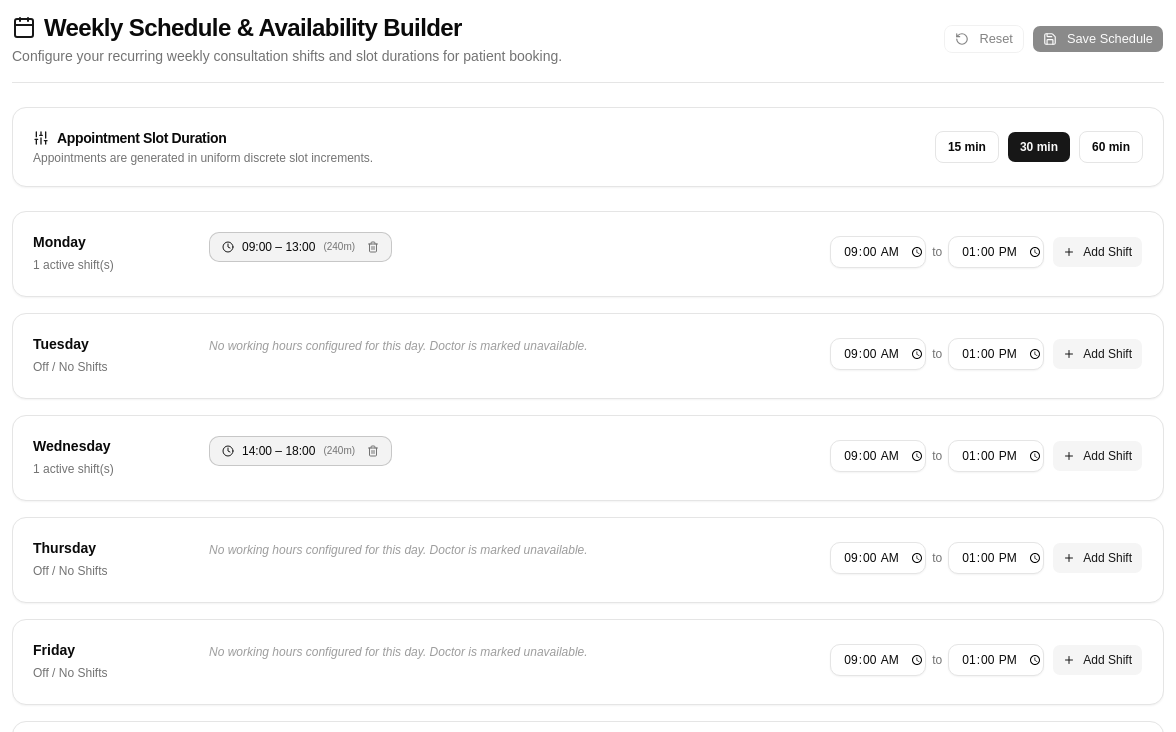
Scenario: Milestone 13 — Task 13.4: Doctor Portal Views › Weekly Availability Settings (AvailabilitySettingsPage) › 5. adding a valid shift updates the schedule draft and marks unsaved changes
expect the element with test id "shift-chip-monday-0" is shown: met, box [209, 232, 392, 262]
Replace the text in the time field with test id "shift-start-monday" with "14:00" at (878, 252), box [830, 236, 926, 268]
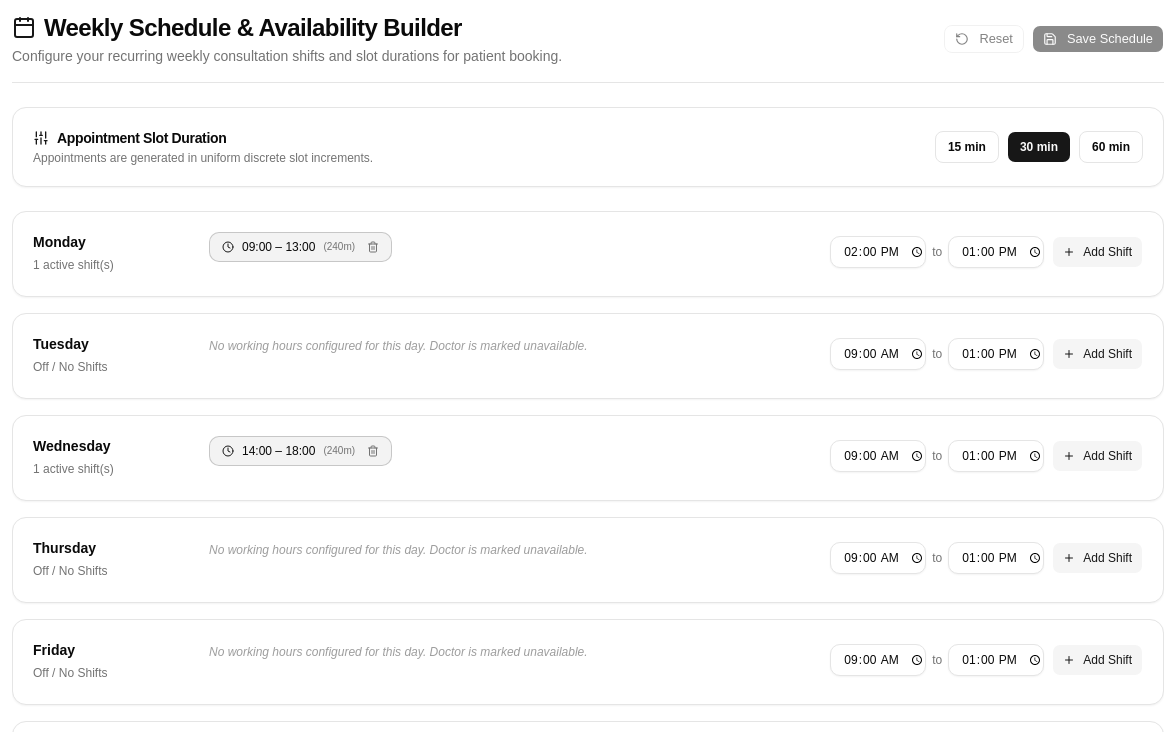
Replace the text in the time field with test id "shift-end-monday" with "18:00" at (996, 252), box [948, 236, 1044, 268]
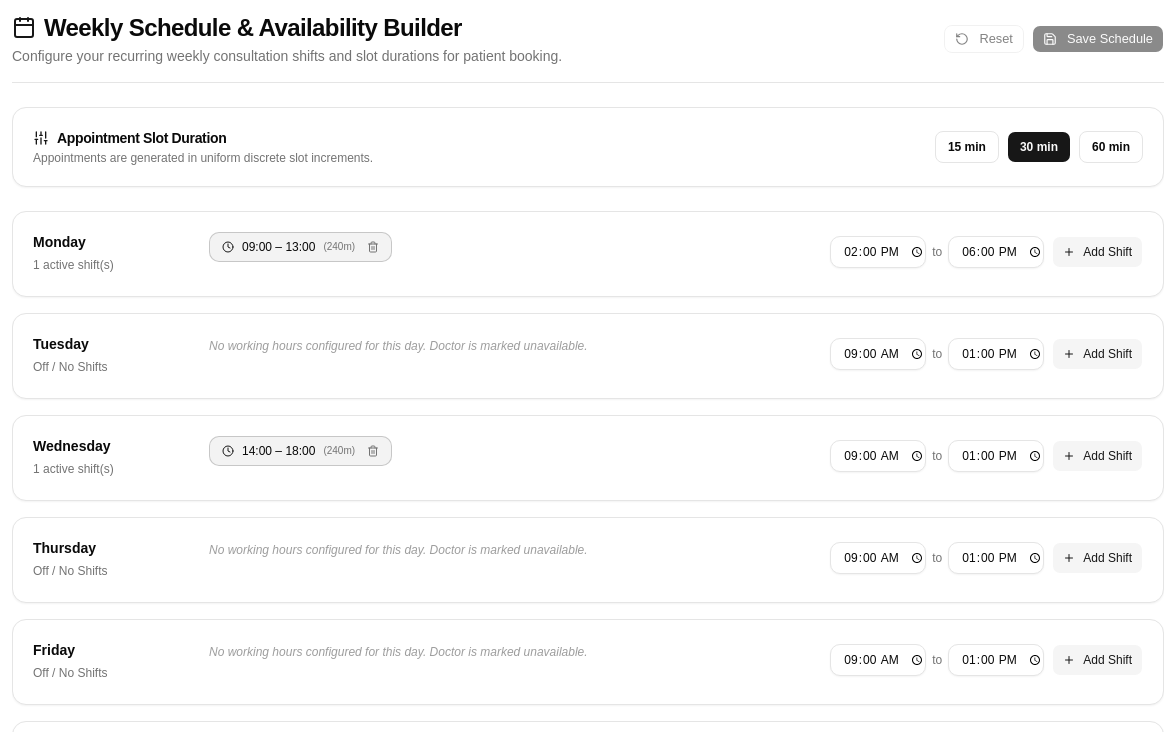
Click the button with test id "add-shift-btn-monday" at (1098, 252), box [1052, 236, 1143, 268]
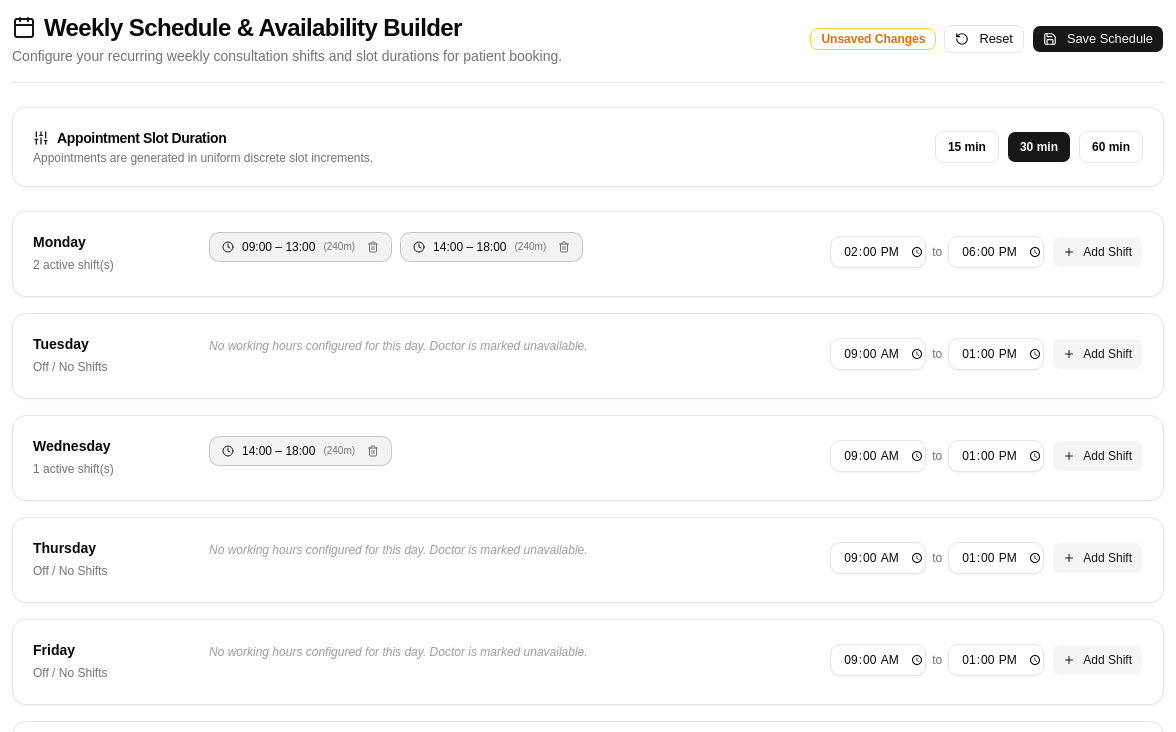
expect the element with test id "shift-chip-monday-1" is shown: met, box [400, 232, 583, 262]
expect the text "Unsaved Changes" is shown: met, box [810, 28, 936, 50]
